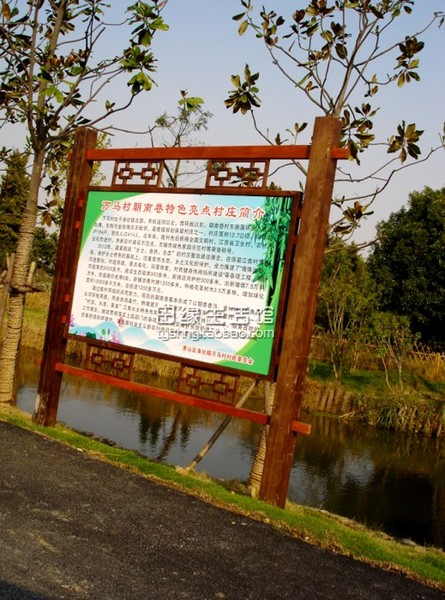bill: (69, 189, 294, 376)
